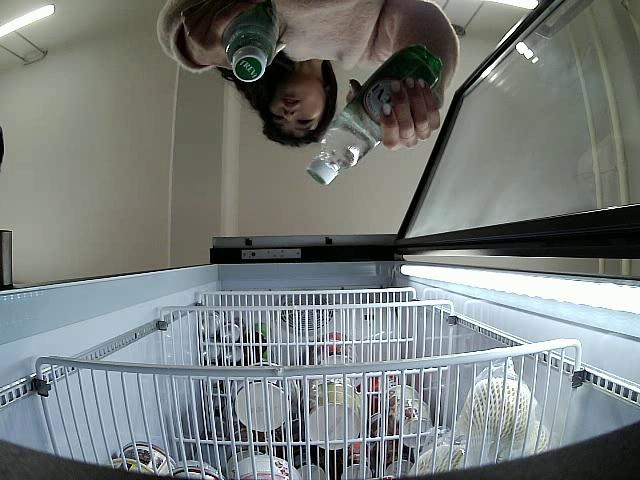00_hand: (179, 0, 286, 73), (346, 73, 443, 153)
18_trevi: (307, 45, 441, 187), (222, 0, 285, 82)
